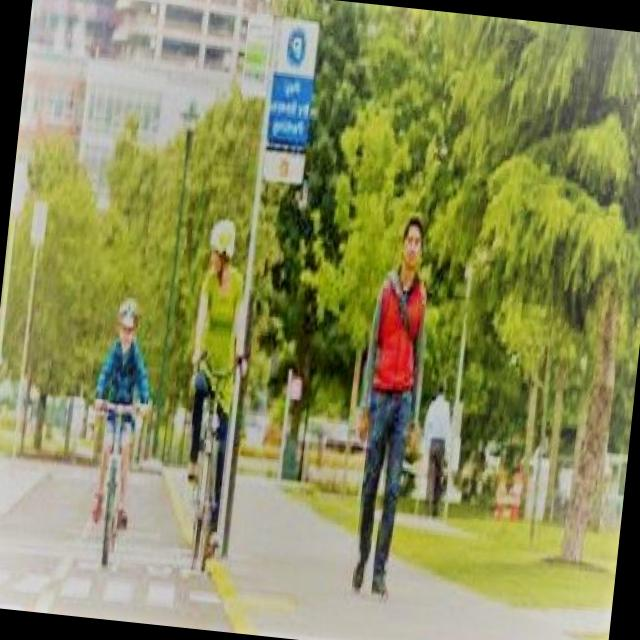Person: (338, 207, 446, 604), (170, 210, 265, 550), (76, 289, 166, 532)
